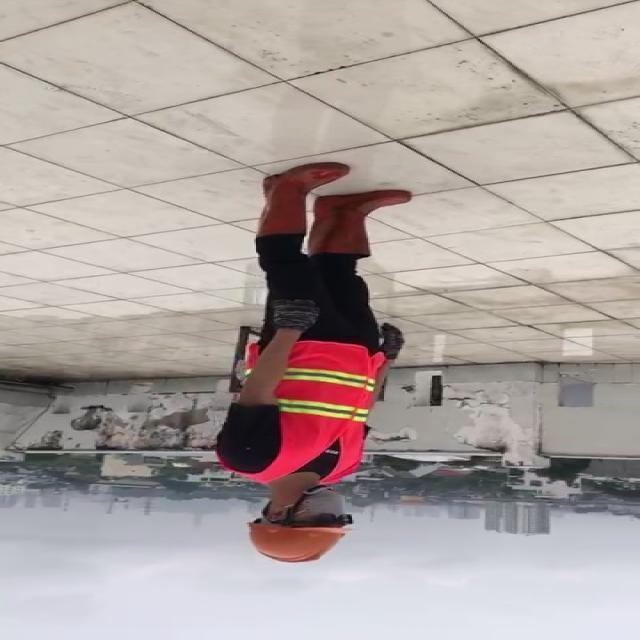Boots: (240, 159, 350, 240), (314, 186, 420, 258)
Gloves: (266, 292, 327, 336), (373, 323, 422, 367)
Helmet: (240, 523, 350, 564)
Vest: (217, 340, 384, 480)
